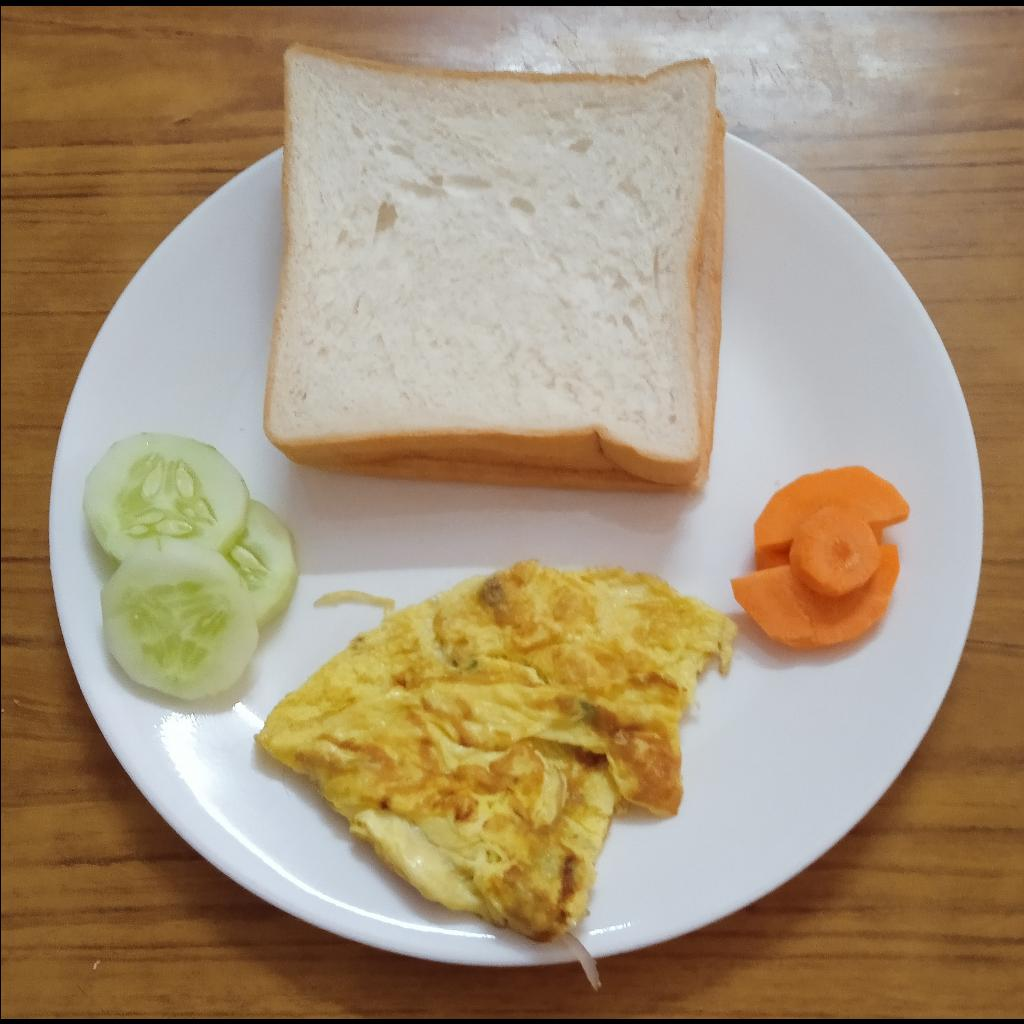bread: (262, 39, 726, 491)
carrot: (734, 466, 909, 651)
cucumber: (83, 434, 296, 699)
egg-poached: (254, 557, 737, 946)
